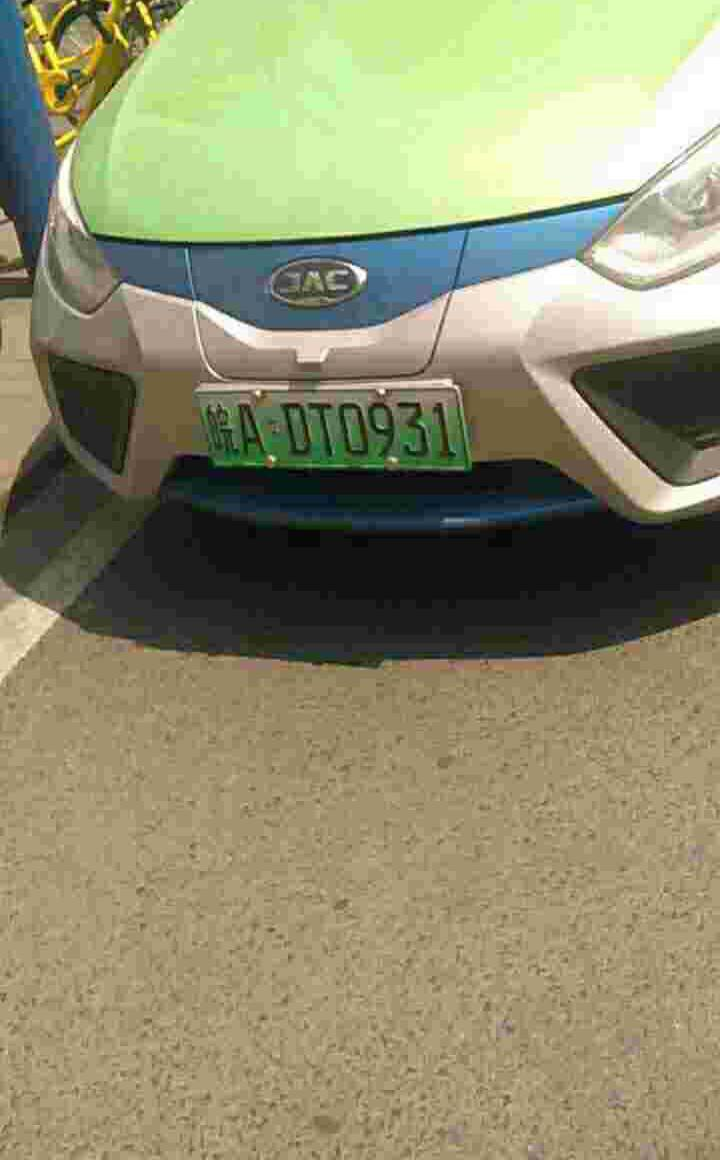car_green: (193, 377, 476, 483)
